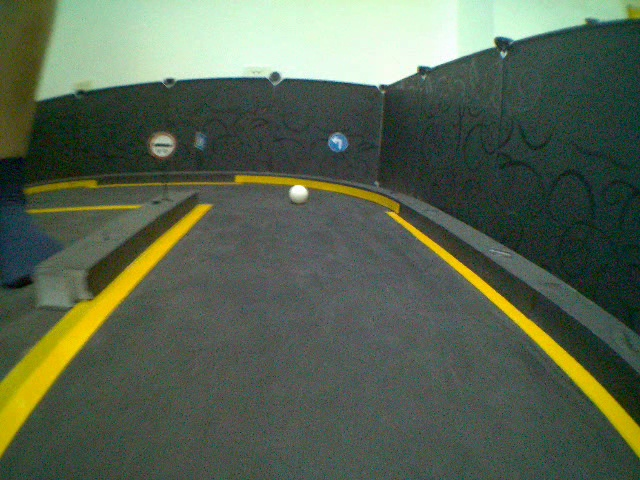ball: (285, 180, 311, 208)
